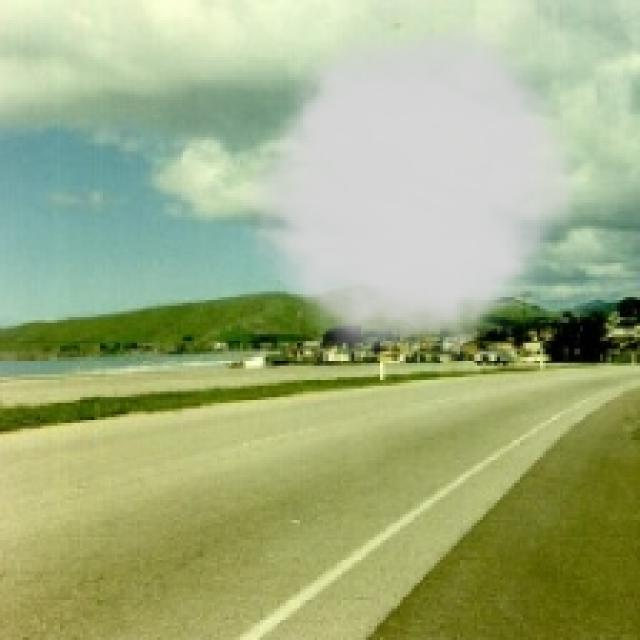smoke: (232, 9, 594, 360)
